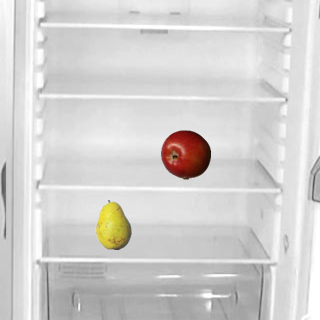Apple Braeburn: (160, 129, 210, 179)
Pear Monster: (88, 199, 138, 249)
